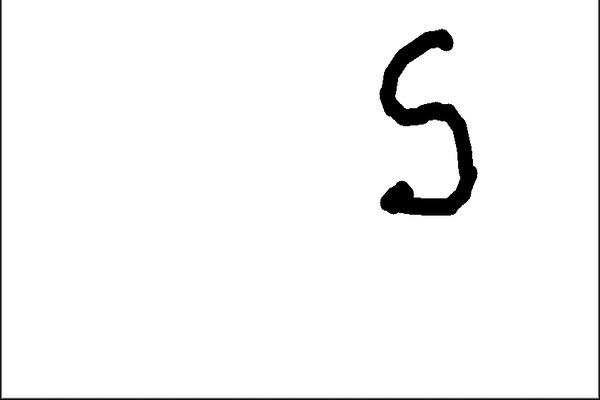S: (362, 13, 494, 226)
